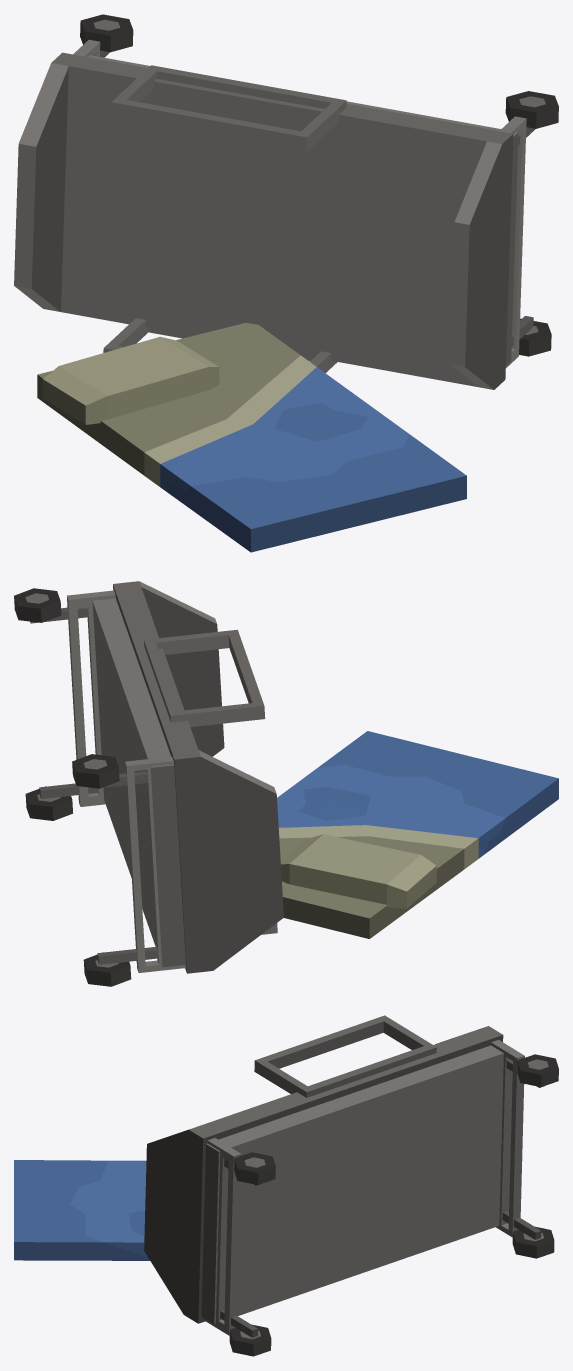
Rendered from AI_Prop_HospitalBed_Tipped.fbx.
3 views of the same model, one above another, from view 1: azimuth 30°, elevation 25°; view 2: azimuth 150°, elevation 25°; view 3: azimuth 270°, elevation 25° (orthographic). The views are drawn at different scales.
Parts seen in each view (by area): view 1: AI_Prop_HospitalBed_Tipped; view 2: AI_Prop_HospitalBed_Tipped; view 3: AI_Prop_HospitalBed_Tipped.
Part boxes in pixels (x1,y1,x2,y2): AI_Prop_HospitalBed_Tipped: (14, 14, 558, 552); AI_Prop_HospitalBed_Tipped: (14, 581, 558, 986); AI_Prop_HospitalBed_Tipped: (14, 1015, 558, 1356).
Bounding box in the file's own units: 4.48 × 2.36 × 5.63.
